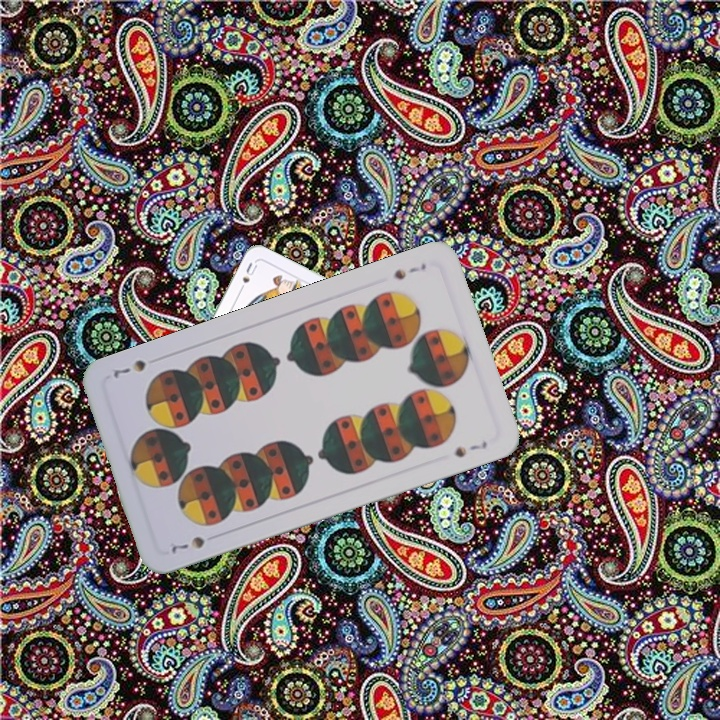S7: (167, 532, 207, 556), (390, 259, 429, 282)
SU: (234, 258, 260, 296)
